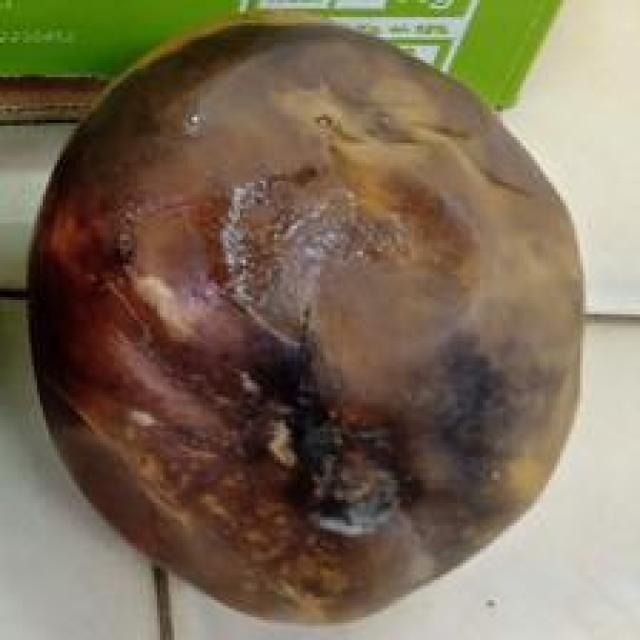Bad_Mango: (30, 24, 581, 621)
